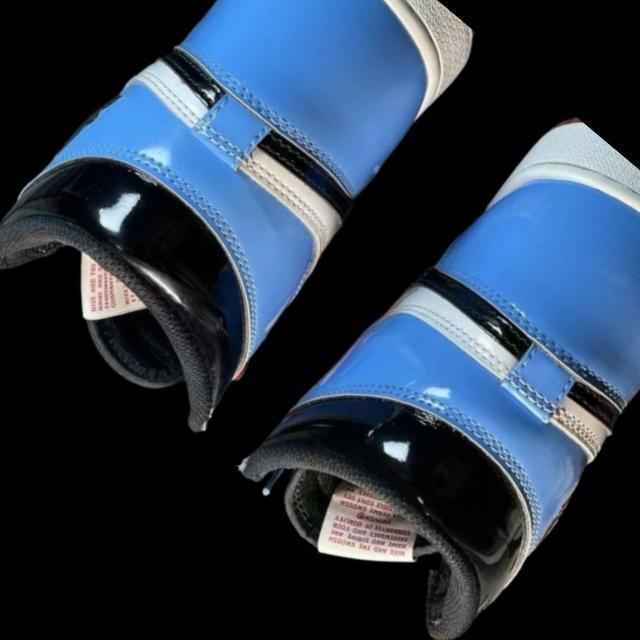nike original jordan 1: (217, 89, 640, 640), (0, 0, 515, 445)
